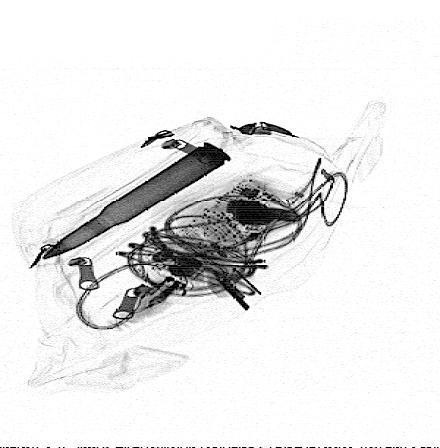Bullet: (38, 141, 233, 260)
